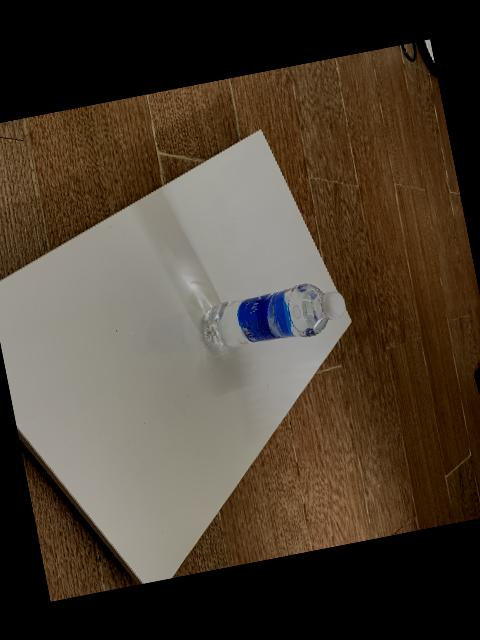aquafina: (198, 283, 345, 352)
